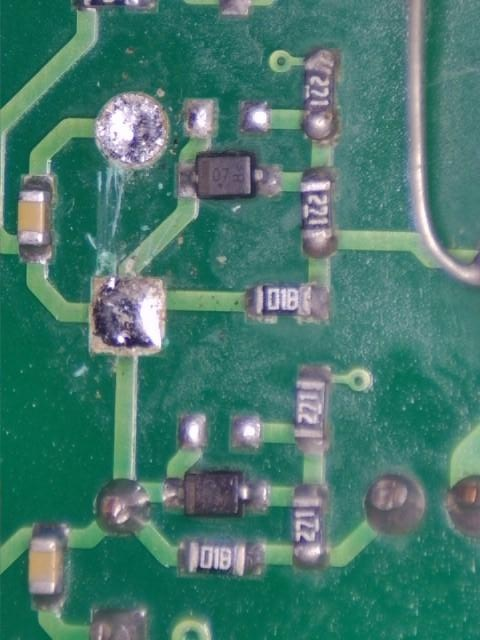pcb_defect: (90, 277, 164, 356), (97, 96, 164, 165)
